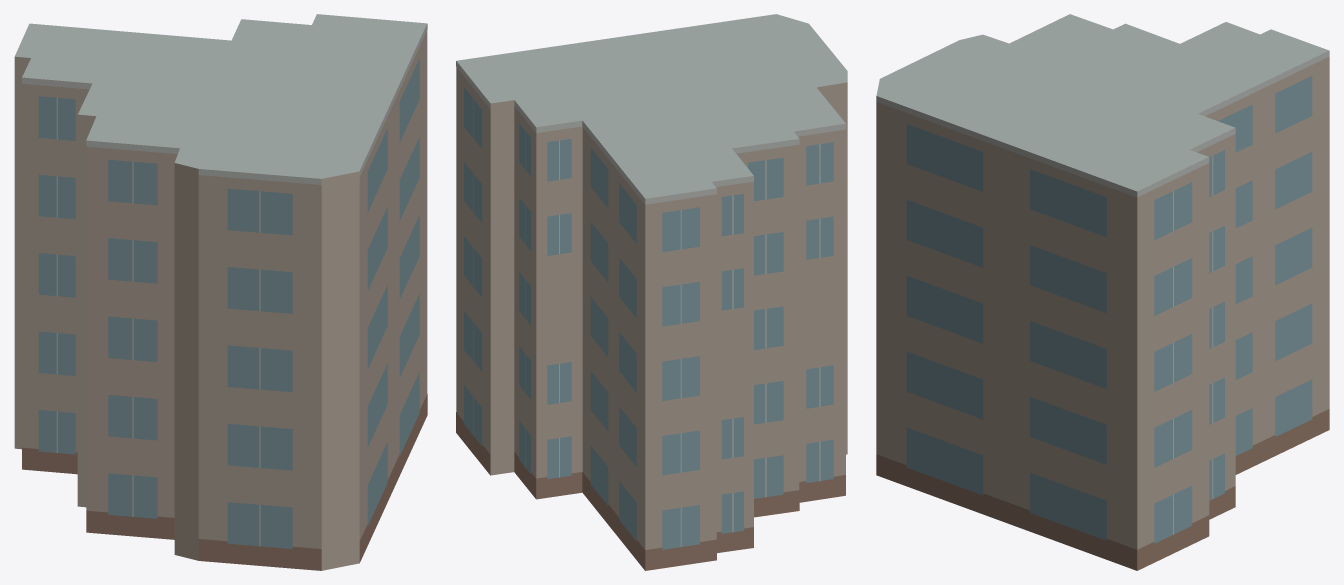
Rendered from survey-upis-32576402.glb.
The picture shows the model from 3 angles, left to right: view 1: azimuth 30°, elevation 25°; view 2: azimuth 150°, elevation 25°; view 3: azimuth 270°, elevation 25°; orthographic projection. The views are drawn at different scales.
Parts seen in each view (by area): view 1: survey-upis-32576402.tmp; view 2: survey-upis-32576402.tmp; view 3: survey-upis-32576402.tmp.
Part boxes in pixels (x1,y1,x2,y2): survey-upis-32576402.tmp: (14, 14, 427, 570); survey-upis-32576402.tmp: (456, 14, 847, 570); survey-upis-32576402.tmp: (876, 14, 1329, 570).
Size of the model in its own units: 15.67 by 15.6 by 16.9.
